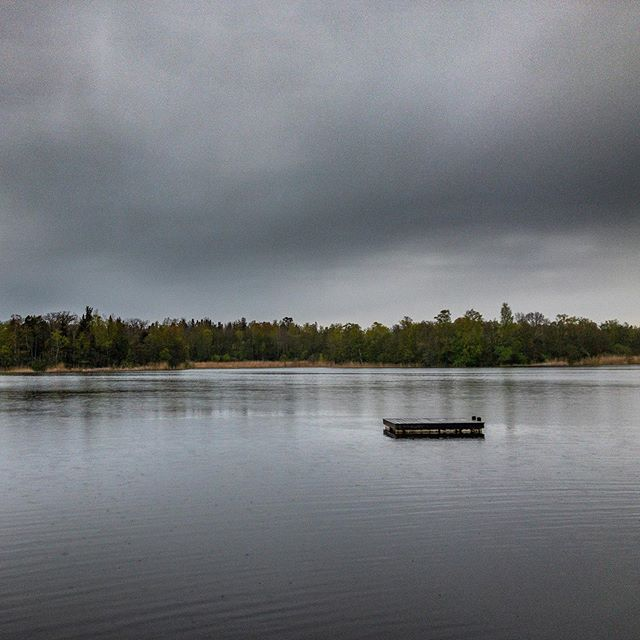river: (13, 376, 640, 640)
sky: (1, 6, 633, 314)
vegetation: (1, 317, 634, 372)
